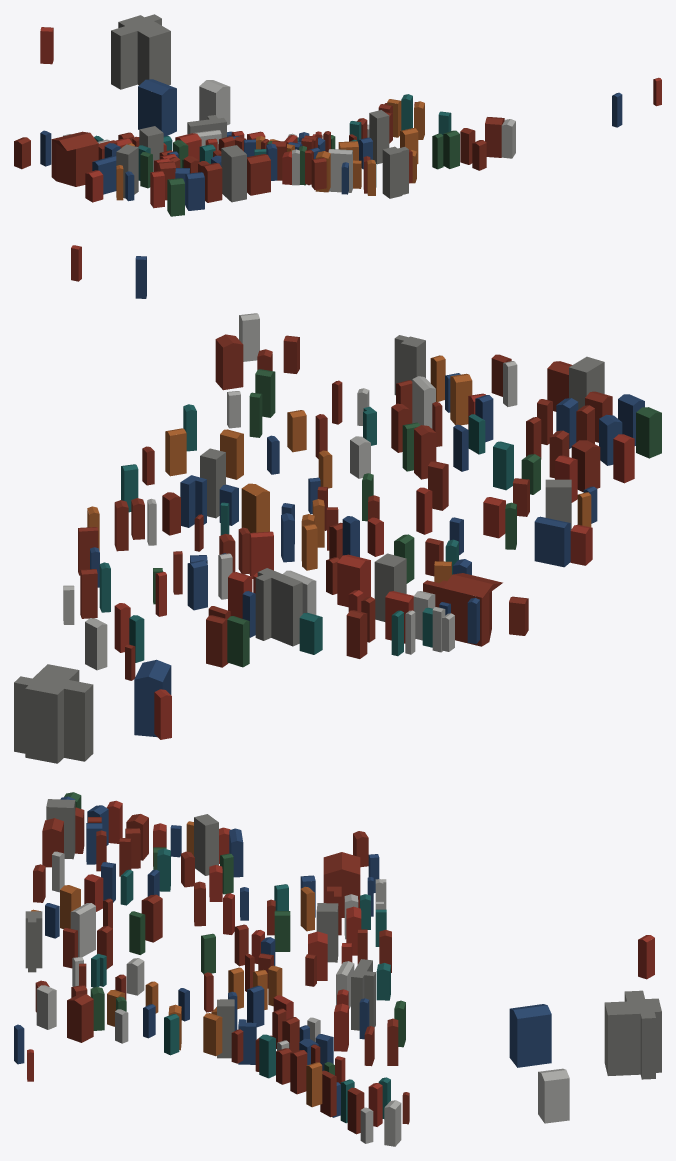
File: near-17-109441-59468.f0174307.glb
The picture shows the model from 3 angles, top to bottom: view 1: azimuth 30°, elevation 25°; view 2: azimuth 150°, elevation 25°; view 3: azimuth 270°, elevation 25°; orthographic projection. The views are drawn at different scales.
Bounding box in the file's own units: 273 × 96.15 × 270.
